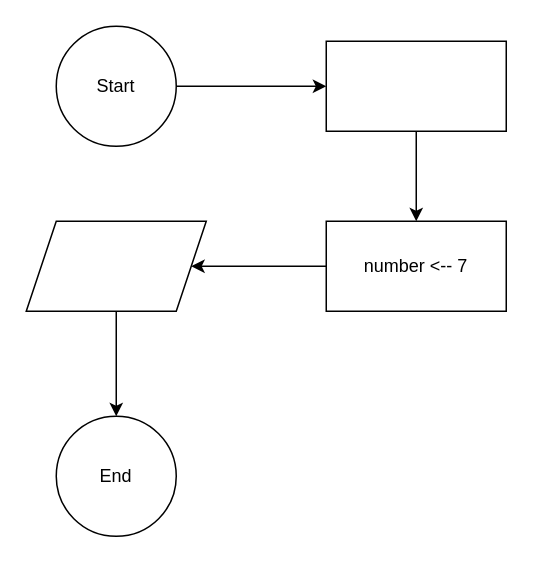
This 533x563 diagram has some shape labels left out. The shapes that lost their labels are listed below. From the top down, each one's centre as x and y in pixels, then its label:
point 415,85: name <-- Ada
point 115,265: name " picks " number
